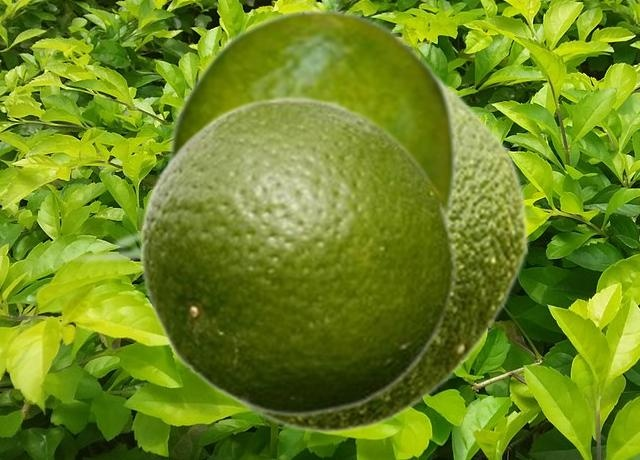calamansi: (229, 73, 528, 435), (139, 93, 457, 417), (69, 6, 457, 269)
